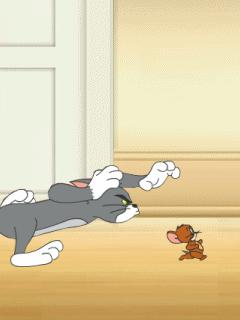jerry: (165, 222, 209, 263)
